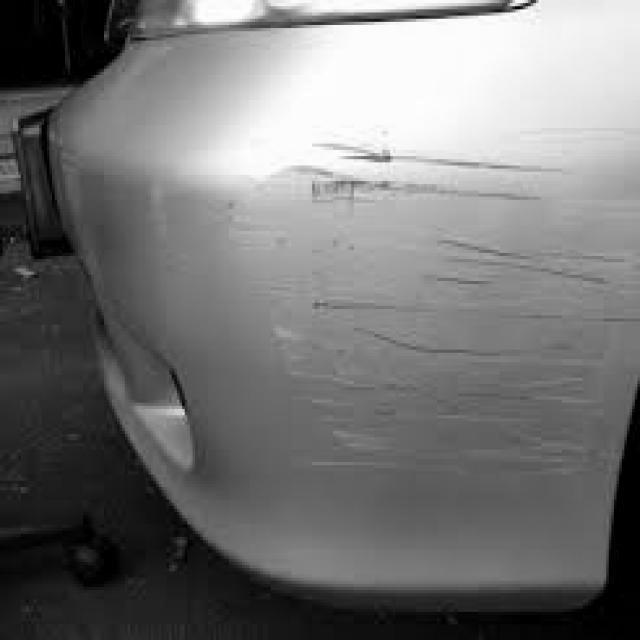front-bumper-dent: (255, 122, 635, 498)
